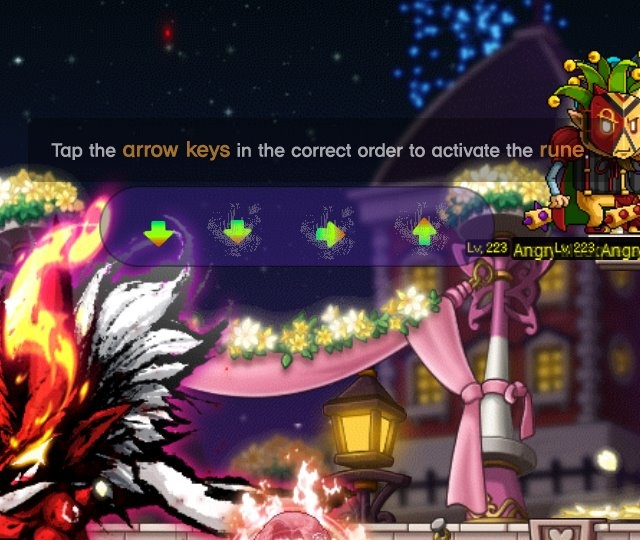rune_box: (89, 178, 503, 272)
